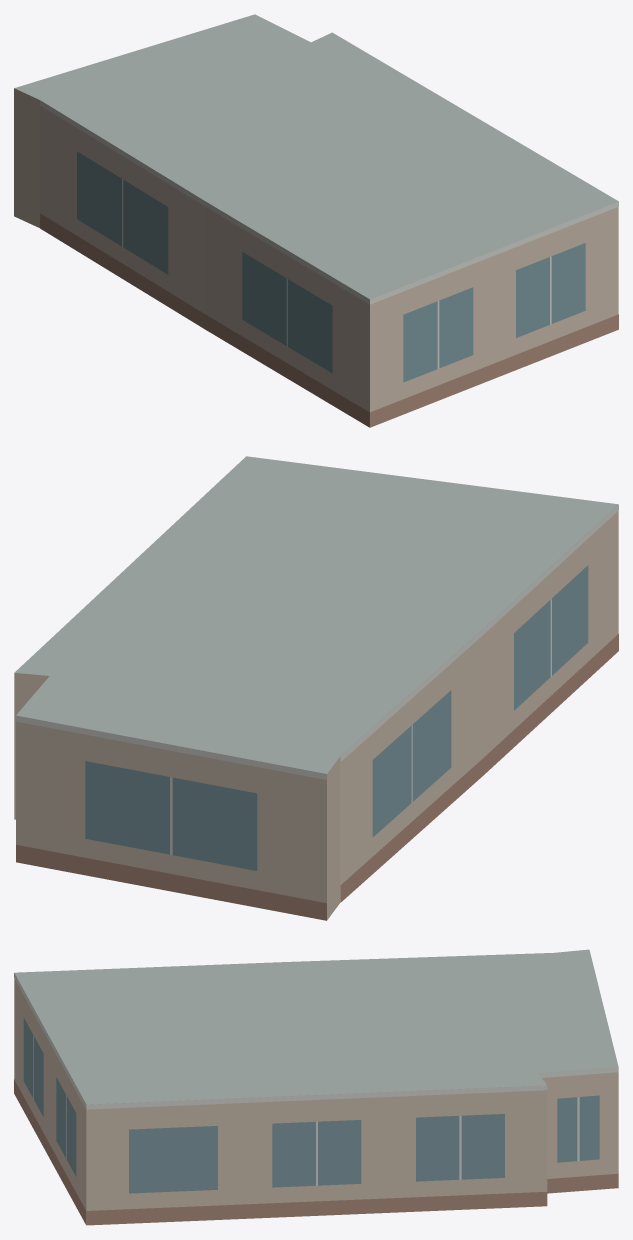
File: survey-upis-33023770.glb
3 views of the same model, one above another, from view 1: azimuth 30°, elevation 25°; view 2: azimuth 150°, elevation 25°; view 3: azimuth 270°, elevation 25° (orthographic). The views are drawn at different scales.
Parts seen in each view (by area): view 1: survey-upis-33023770.tmp; view 2: survey-upis-33023770.tmp; view 3: survey-upis-33023770.tmp.
Part boxes in pixels (x1,y1,x2,y2): survey-upis-33023770.tmp: (14,14,618,427); survey-upis-33023770.tmp: (14,456,618,920); survey-upis-33023770.tmp: (14,949,618,1225).
Size of the model in its own units: 8.41 by 3.05 by 13.85.
